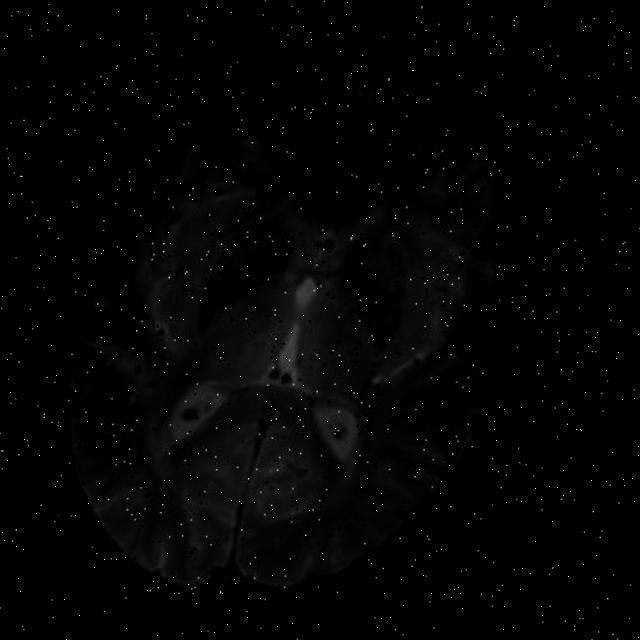MCI: (186, 193, 308, 341), (325, 250, 415, 368)
